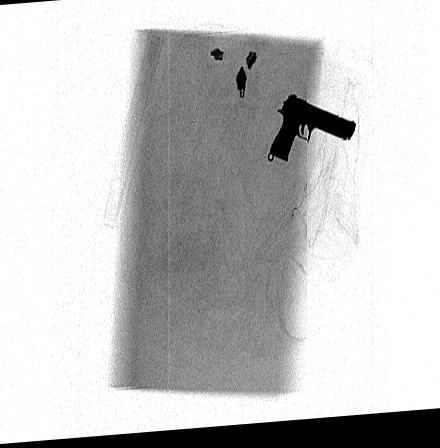Gun: (269, 99, 357, 166)
